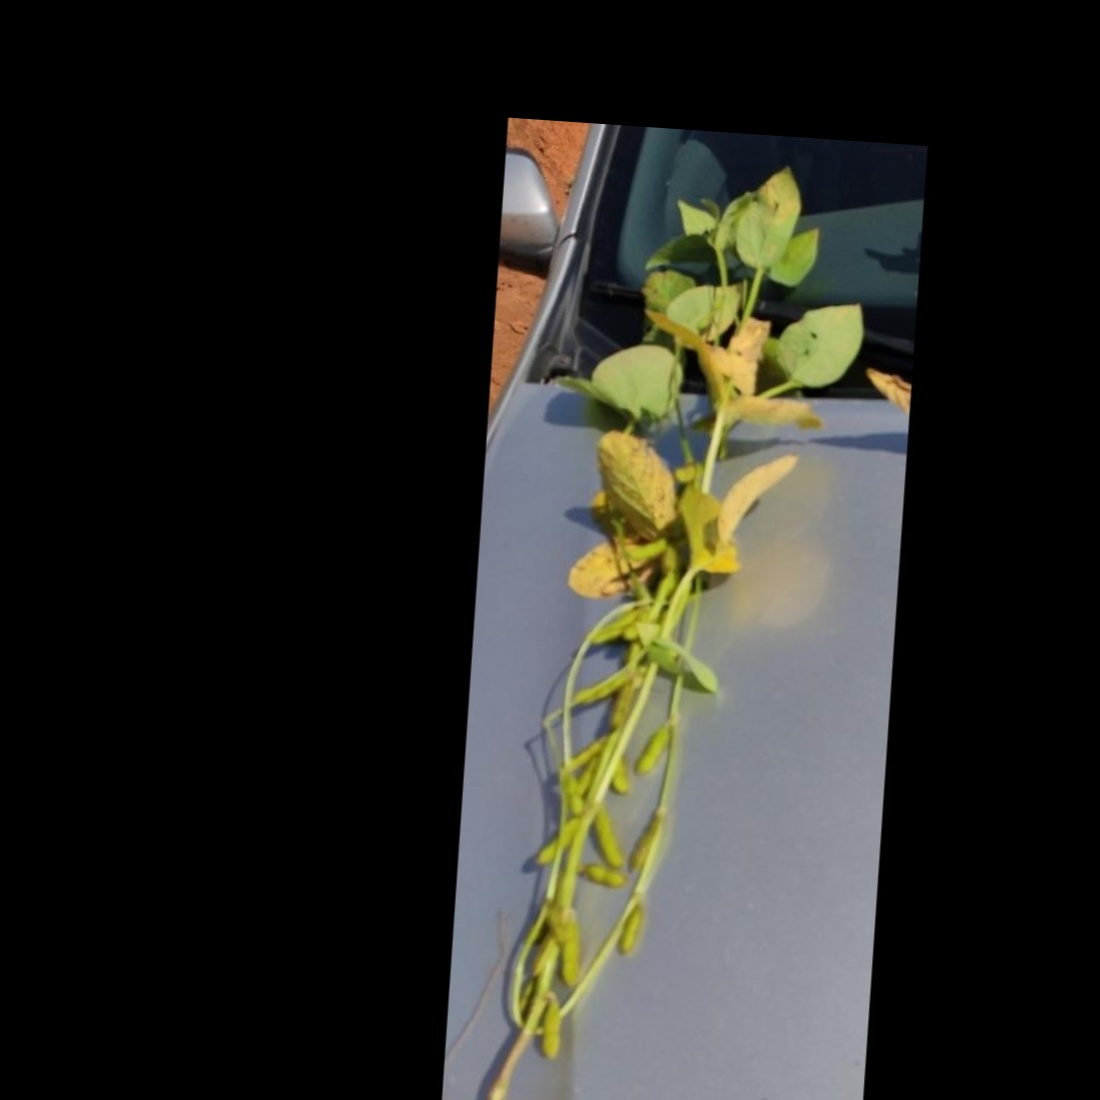pod: (554, 728, 622, 783), (517, 812, 579, 869), (587, 807, 629, 877), (629, 717, 676, 779), (556, 909, 586, 996), (536, 991, 567, 1073), (617, 899, 647, 961), (577, 863, 632, 893)
soy: (434, 193, 851, 1100)
